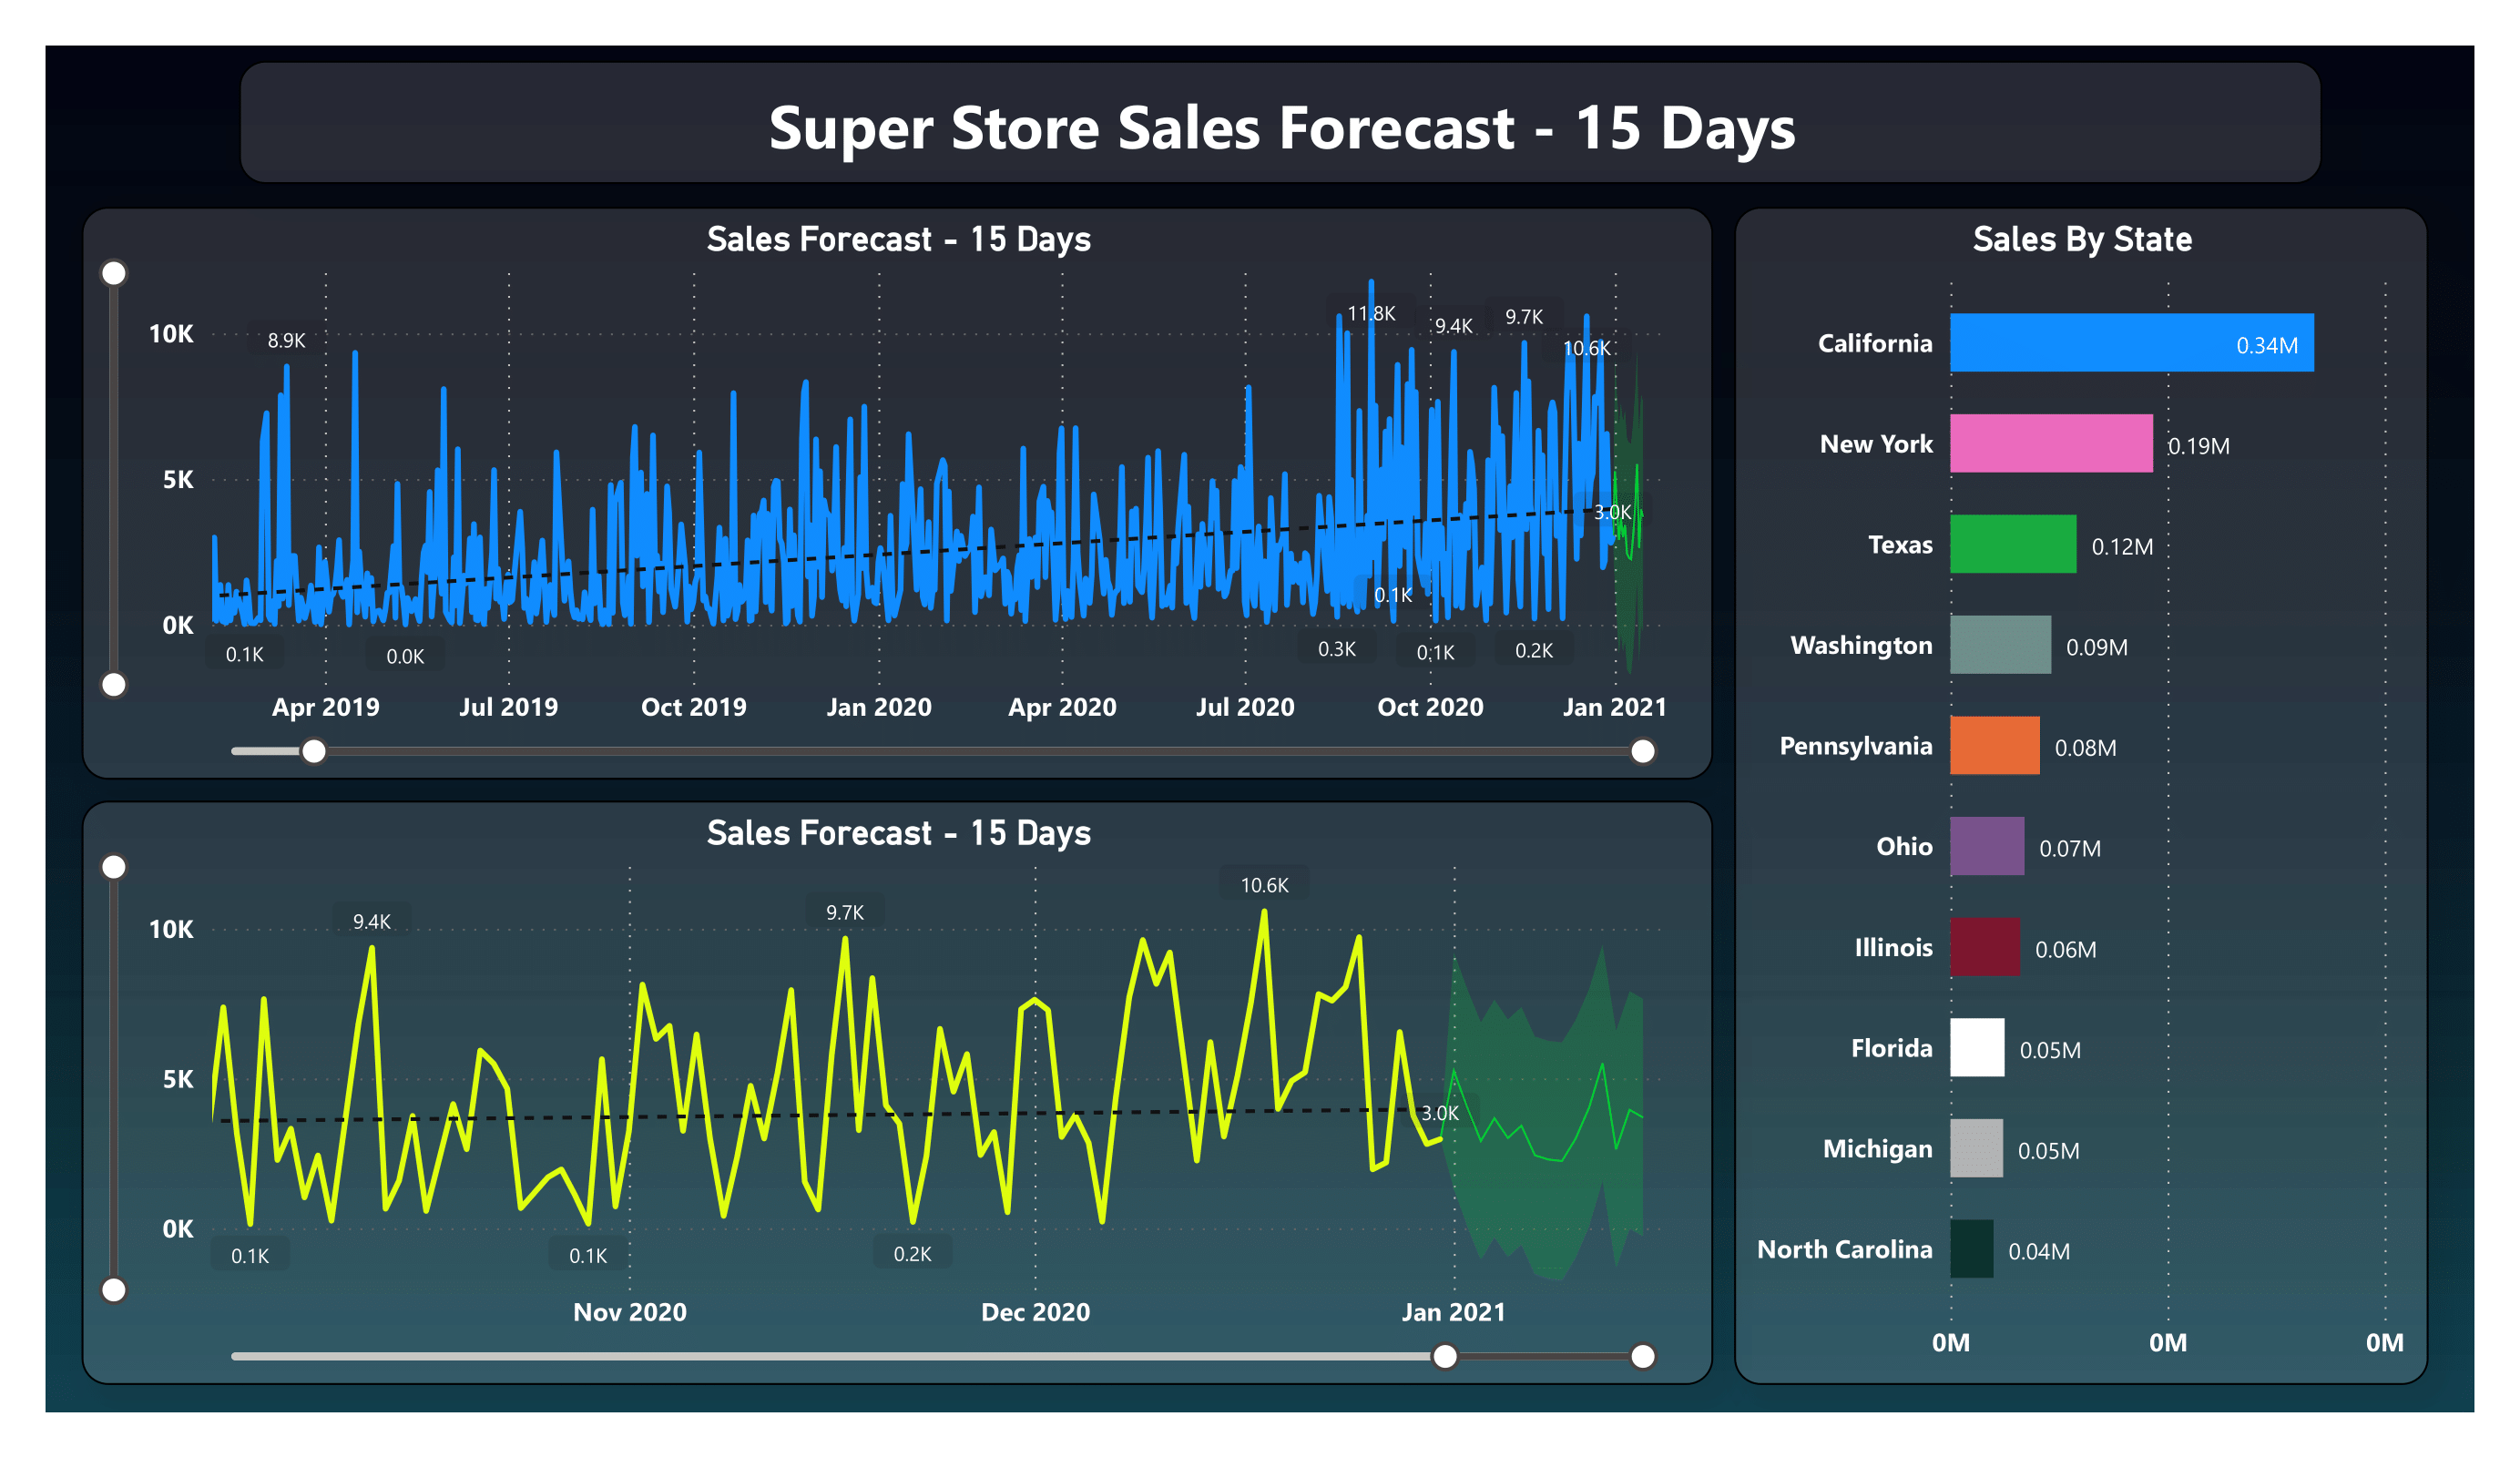

The dashboard page shown, as its layout file describes it:
{"tool":"powerbi","page":{"name":"Forcasting","canvas":[1280,720],"ordinal":1},"visuals":[{"type":"lineChart","title":"Sales Forecast - 15 Days","fields":{"Category":["SalesForecast.Order Date.Variation.Date Hierarchy.Year"],"Y":["Sum(SalesForecast.Total Sales)"]},"box":[19.2,84.8,859.6,302],"z":0},{"type":"textbox","box":[102,8.1,1098,64.6],"z":1000},{"type":"clusteredBarChart","title":"Sales By State","fields":{"Y":["Sum(SuperStore_Sales_Dataset.Sales)"],"Category":["SuperStore_Sales_Dataset.State"]},"box":[889.9,84.8,365.7,621.2],"z":3000},{"type":"lineChart","title":"Sales Forecast - 15 Days","fields":{"Category":["SalesForecast.Order Date.Variation.Date Hierarchy.Year"],"Y":["Sum(SalesForecast.Total Sales)"]},"box":[19.2,398,859.6,308.1],"z":3001}]}

Visuals, with their boxes in screenshot pixels (x1, y1, x2, y2):
"Sales Forecast - 15 Days" lineChart: [x1=82, y1=207, x2=1713, y2=779]
textbox: [x1=240, y1=61, x2=2322, y2=183]
"Sales By State" clusteredBarChart: [x1=1734, y1=207, x2=2428, y2=1385]
"Sales Forecast - 15 Days" lineChart: [x1=82, y1=800, x2=1713, y2=1385]
